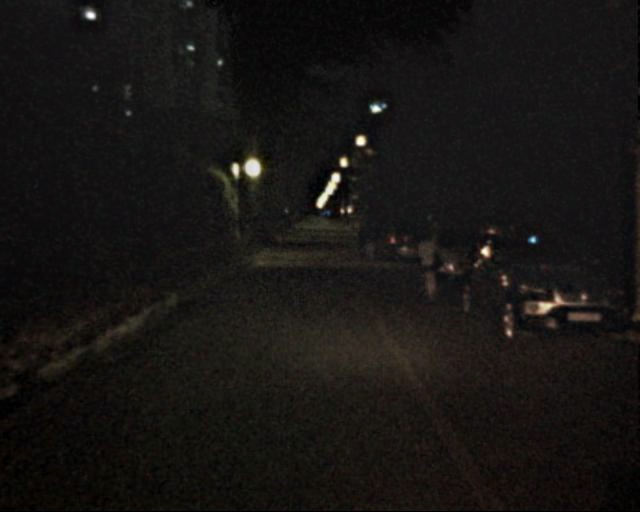person: (409, 227, 441, 304), (359, 219, 376, 260), (351, 223, 362, 251)
